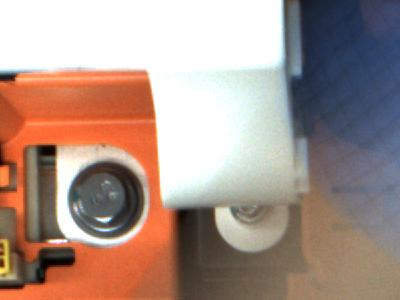nut_b: (67, 163, 144, 237)
